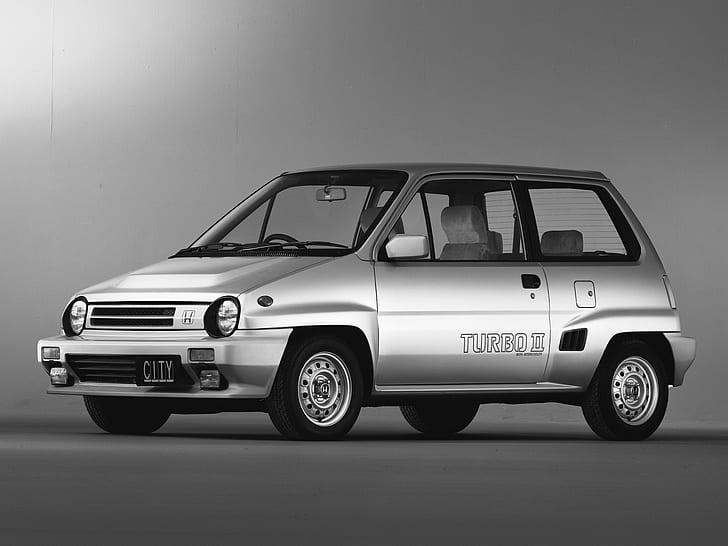Car hood: (69, 250, 340, 307)
Fender - -F-L-: (234, 248, 379, 402)
Fender - -R-L-: (546, 263, 683, 389)
Front bumper: (35, 330, 293, 405)
Headlight - -L-: (196, 293, 250, 342)
Headlight - -R-: (47, 291, 100, 342)
Passenger-s door - -F-L-: (379, 167, 551, 388)
Rear bumper: (660, 331, 705, 396)
Side bumper - -L-: (365, 372, 597, 409)
Side mirror - -L-: (381, 230, 435, 265)
